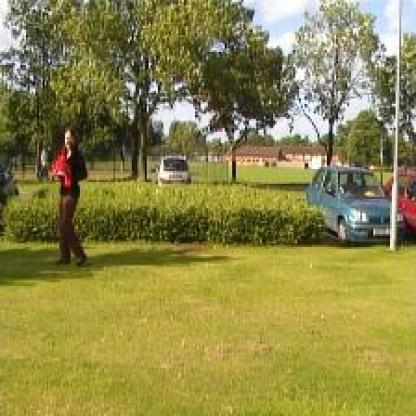other: (47, 146, 74, 186)
